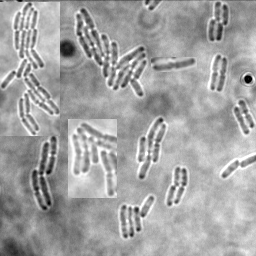Dividing: (151, 57, 197, 72), (175, 167, 189, 204), (238, 99, 255, 128), (209, 54, 222, 90), (217, 56, 228, 92)
Microcolony: (0, 2, 60, 136), (76, 7, 147, 98), (68, 119, 117, 198), (137, 117, 168, 180), (32, 136, 57, 211), (120, 195, 155, 238), (208, 1, 229, 42)
Rod: (233, 106, 251, 135), (222, 157, 240, 178), (167, 184, 177, 206), (174, 166, 183, 187)
